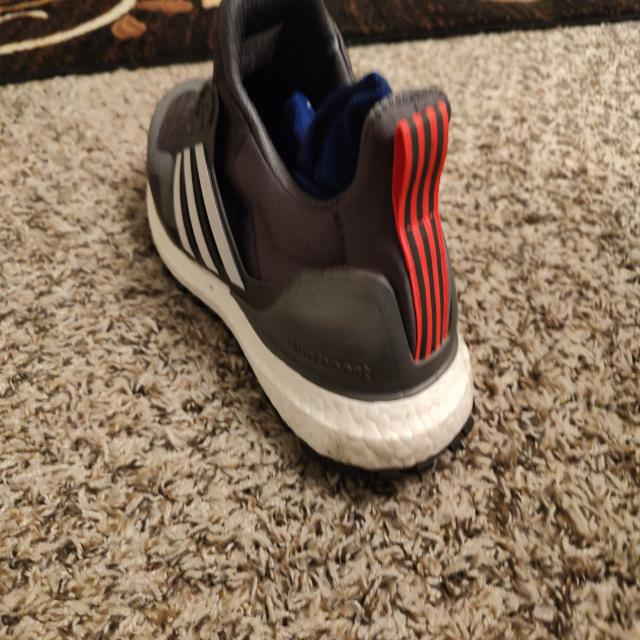black shoes: (150, 4, 475, 484)
